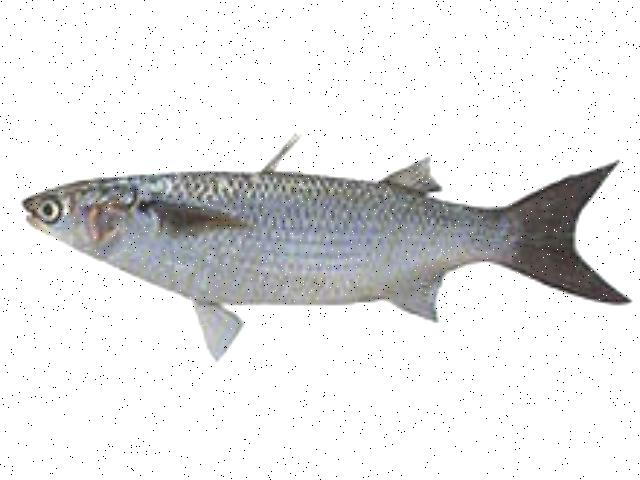Mulut: (7, 176, 53, 240)
Sirip Anal: (381, 256, 457, 328)
Sirip Dada: (150, 188, 258, 248)
Sirip Ekor: (507, 158, 635, 312)
Sirip Perut: (180, 285, 252, 369)
Sirip Punggung: (248, 117, 448, 210)
